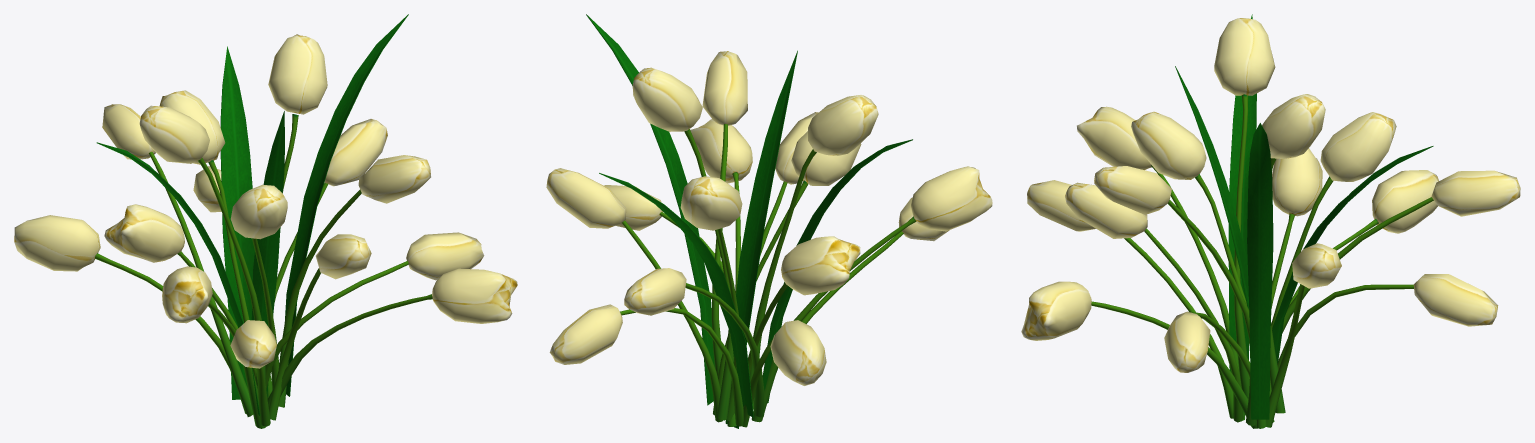
The model's file is DecorFlowerTulips02_2.FBX.
3 views of the same model, side by side, from view 1: azimuth 30°, elevation 25°; view 2: azimuth 150°, elevation 25°; view 3: azimuth 270°, elevation 25° (orthographic). The views are drawn at different scales.
Visible parts, largest first — view 1: DecorFlowerTulips02_2; view 2: DecorFlowerTulips02_2; view 3: DecorFlowerTulips02_2.
Part boxes in pixels (box(x1,y1,x2,y2)): DecorFlowerTulips02_2: box(14, 14, 517, 428); DecorFlowerTulips02_2: box(546, 14, 992, 428); DecorFlowerTulips02_2: box(1021, 14, 1520, 428).
Size of what is drawn, in the model's own units: 0.4685 by 0.4642 by 0.5561.
